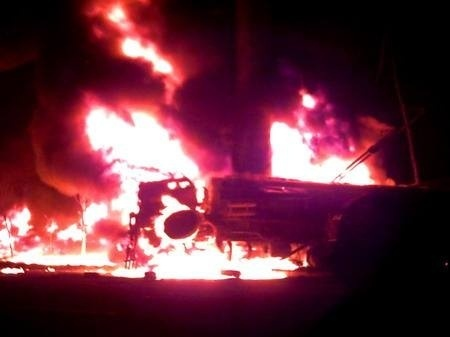fire: (266, 94, 384, 187)
